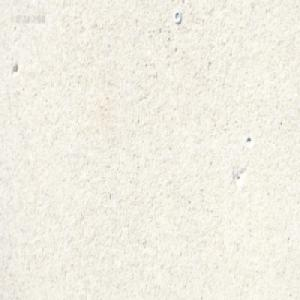Washer: (173, 9, 181, 23)
